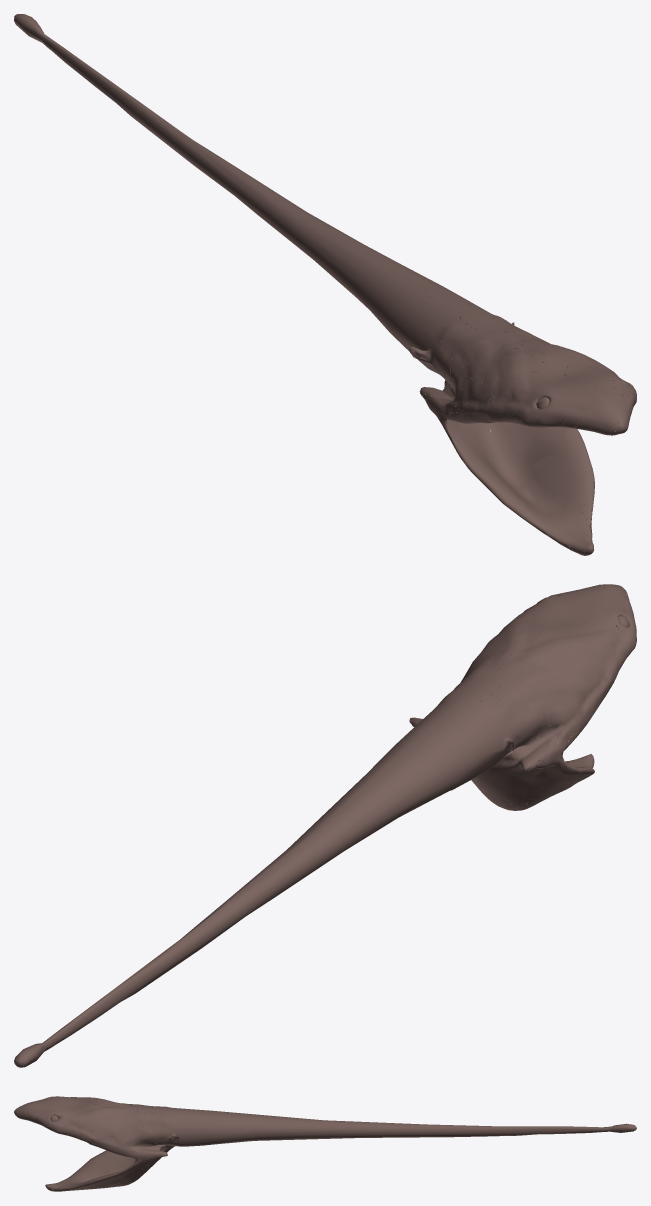
The model's file is gulper.glb.
3 renders of one model, top to bottom at view 1: azimuth 30°, elevation 25°; view 2: azimuth 150°, elevation 25°; view 3: azimuth 270°, elevation 25°, orthographic. The views are drawn at different scales.
Parts seen in each view (by area): view 1: Object_3; view 2: Object_3; view 3: Object_3.
Part boxes in pixels (x1=…): Object_3: x1=14, y1=14, x2=636, y2=555; Object_3: x1=14, y1=584, x2=636, y2=1067; Object_3: x1=14, y1=1096, x2=636, y2=1191.
Bounding box in the file's own units: 0.1084 × 0.1415 × 0.9048.
